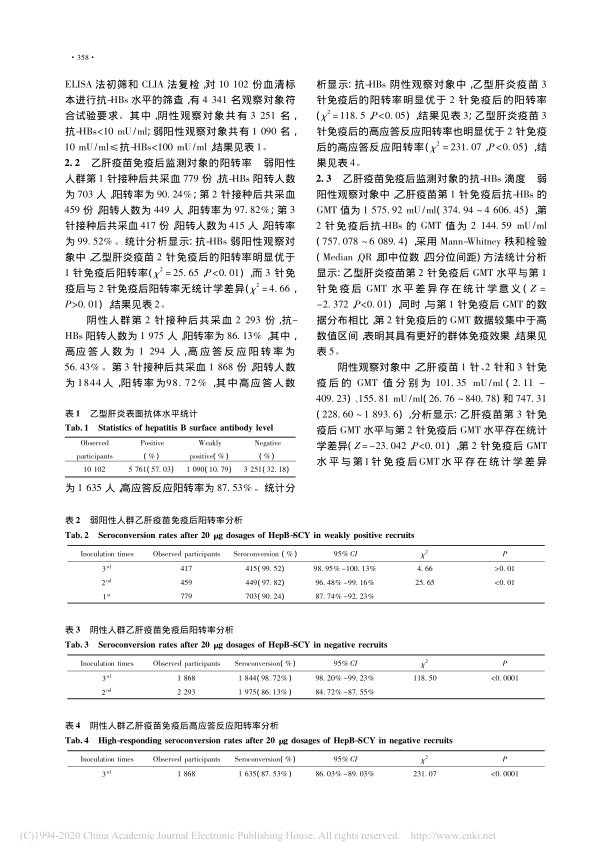Header: (71, 53, 95, 61)
Table: (64, 542, 548, 604), (65, 652, 547, 702), (66, 748, 546, 780), (63, 435, 298, 478)
Text: (316, 187, 547, 356), (63, 172, 296, 310), (315, 361, 547, 468), (317, 80, 546, 167), (65, 76, 298, 153), (65, 314, 300, 390), (64, 718, 456, 744), (63, 514, 416, 538), (65, 623, 389, 649), (64, 409, 273, 431), (65, 483, 297, 494)
Title: (315, 170, 526, 183), (64, 157, 253, 169)
